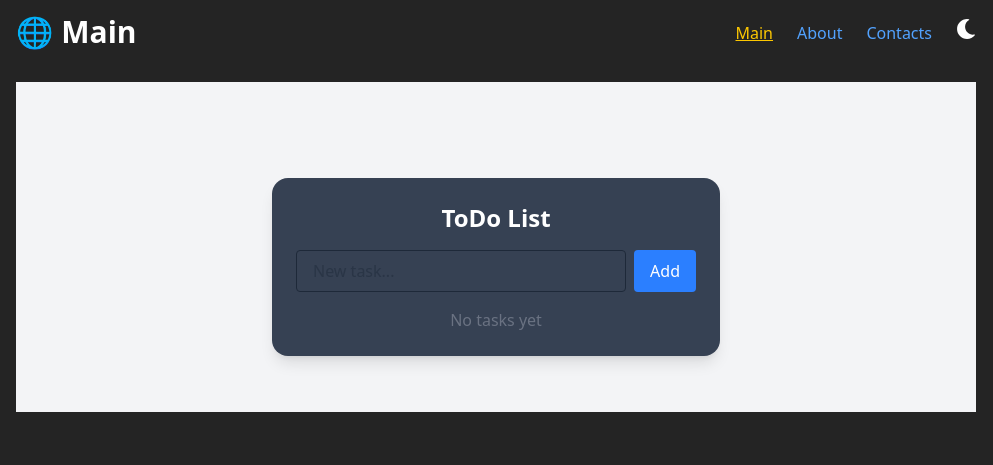
Scenario: TodoList › shows an error message if less than 5 characters are entered
This screenshot has width=993, height=465.
In the field with placeholder "New task...": (461, 271) [296, 250, 626, 292], type "abcd"
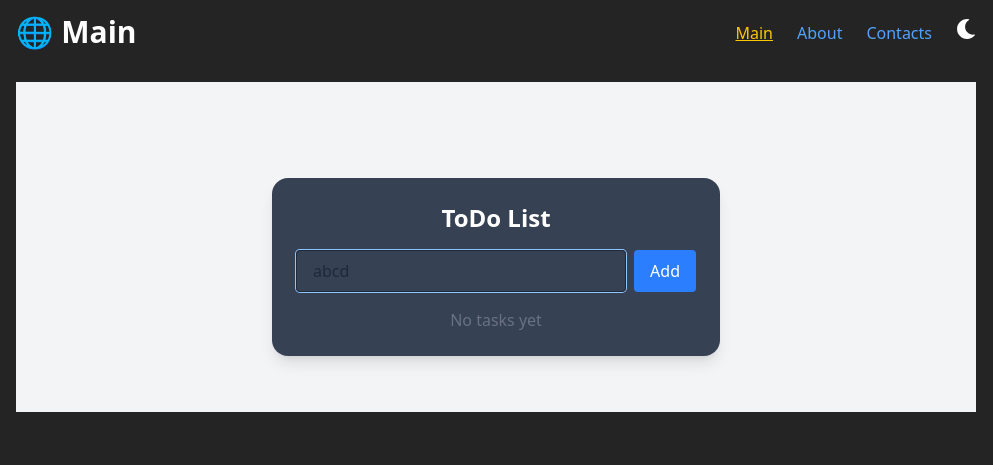
Click the button "Add": (665, 271) [634, 250, 696, 292]
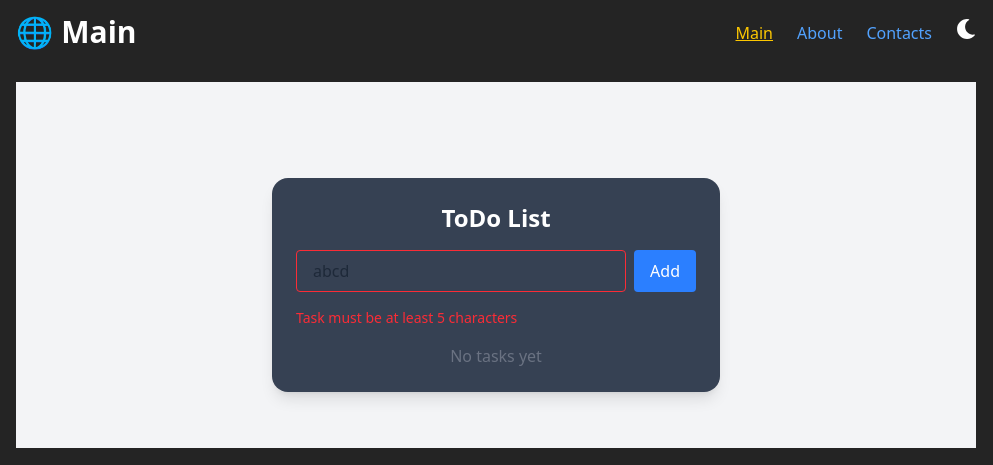
expect the text "Task must be at least 5 characters" is shown: met, box [296, 308, 517, 327]
